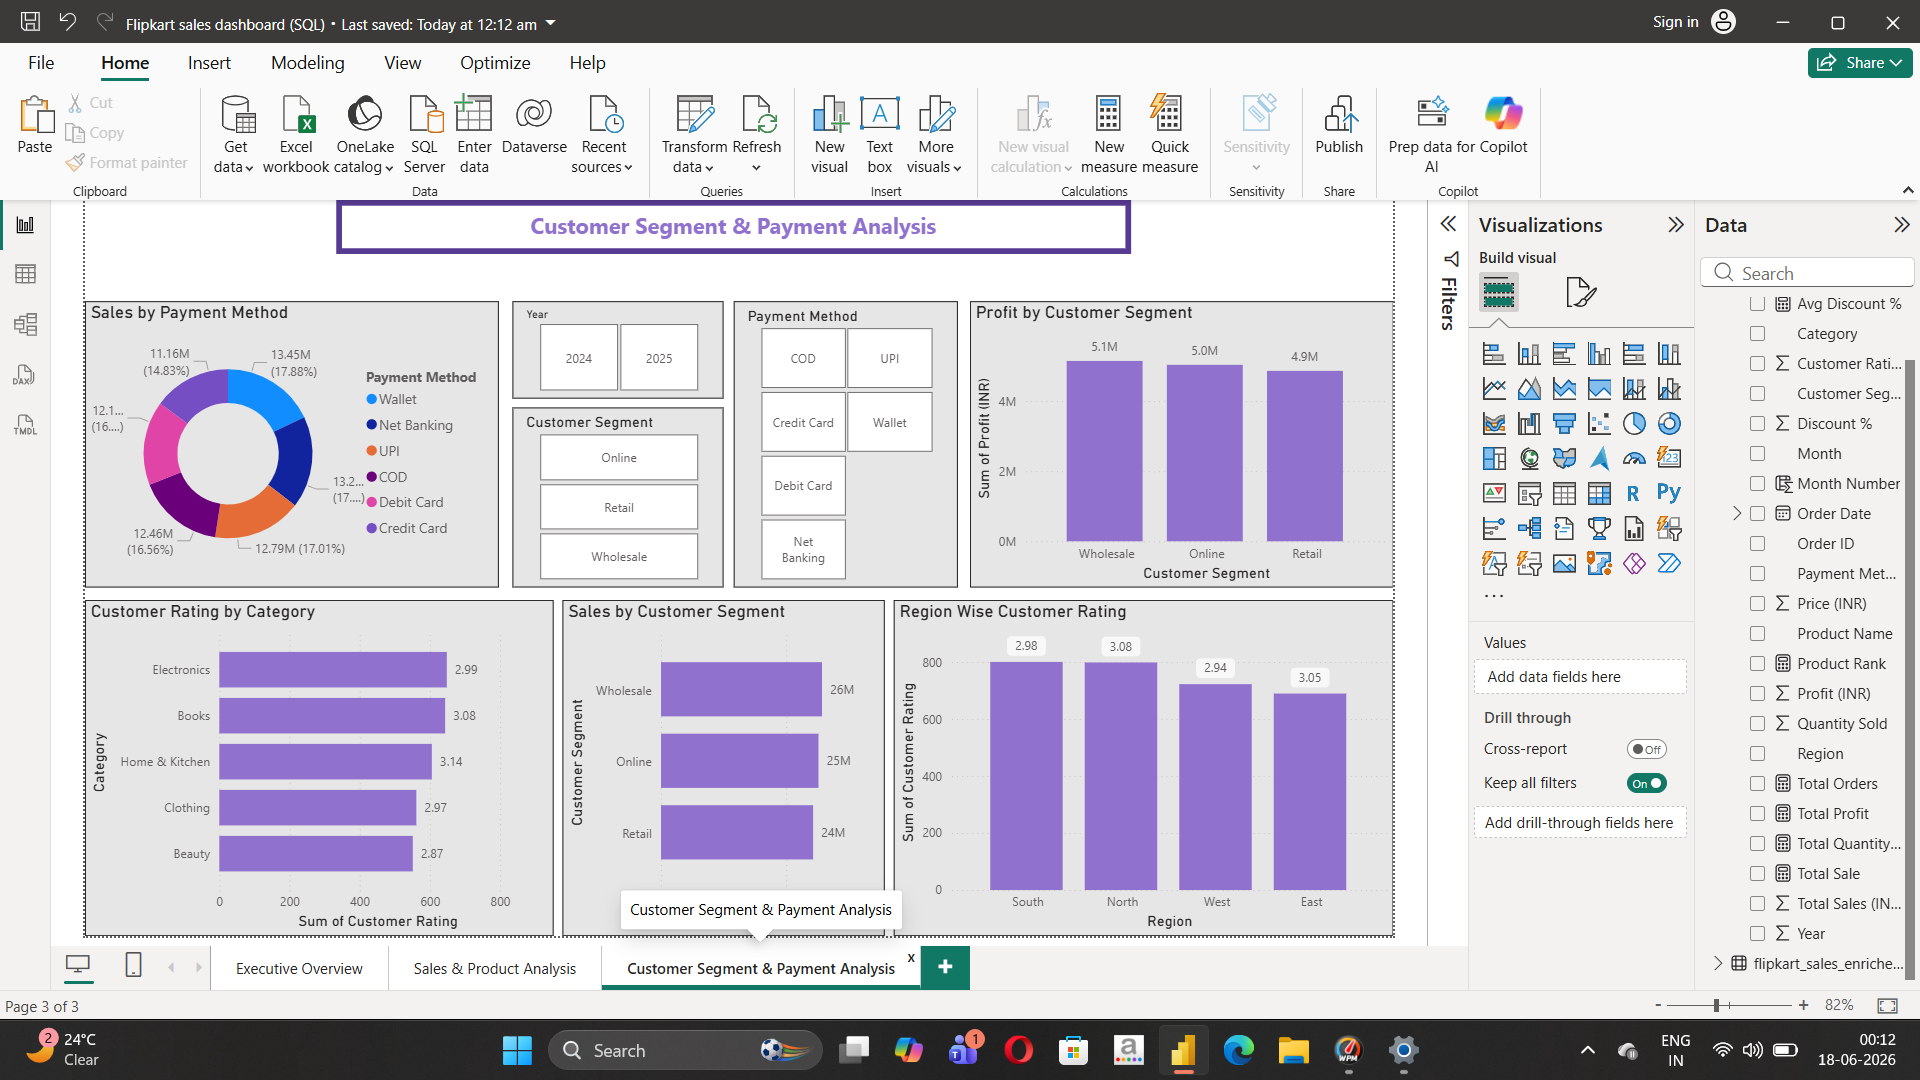

Layout of this report page (visuals, bound fields, positions):
{"tool":"powerbi","page":{"name":"Customer Segment &  Payment Analysis","canvas":[1280,720],"ordinal":2},"visuals":[{"type":"donutChart","title":"Sales by Payment Method","fields":{"Y":["Sum(flipkart_sales_enriched - Copy.Total Sales (INR))"],"Category":["flipkart_sales_enriched - Copy.Payment Method"]},"box":[0,99,404.8,280],"z":0},{"type":"barChart","title":"Sales by Customer Segment","fields":{"Y":["Sum(flipkart_sales_enriched - Copy.Total Sales (INR))"],"Category":["flipkart_sales_enriched - Copy.Customer Segment"]},"box":[467.1,391.3,315.5,328.9],"z":1000},{"type":"clusteredBarChart","title":" Customer Rating by Category","fields":{"Y":["Sum(flipkart_sales_enriched - Copy.Customer Rating)"],"Category":["flipkart_sales_enriched - Copy.Category"]},"box":[0,391.3,458.6,328.9],"z":2000},{"type":"columnChart","title":" Profit by Customer Segment","fields":{"Y":["Sum(flipkart_sales_enriched - Copy.Profit (INR))"],"Category":["flipkart_sales_enriched - Copy.Customer Segment"]},"box":[865.8,99,414.5,280],"z":3000},{"type":"lineClusteredColumnComboChart","title":"Region Wise Customer Rating ","fields":{"Category":["flipkart_sales_enriched - Copy.Region"],"Y":["Sum(flipkart_sales_enriched - Copy.Customer Rating)"]},"box":[791.2,391.3,489.1,328.9],"z":4000},{"type":"slicer","fields":{"Values":["flipkart_sales_enriched - Copy.Year"]},"box":[418.2,99,206.7,95.4],"z":4001},{"type":"slicer","fields":{"Values":["flipkart_sales_enriched - Copy.Payment Method"]},"box":[634.7,99,218.9,280],"z":4002},{"type":"slicer","fields":{"Values":["flipkart_sales_enriched - Copy.Customer Segment"]},"box":[418.2,203,206.7,176.1],"z":4003},{"type":"textbox","box":[245.8,0,777.7,52.6],"z":4004}]}

Visuals, with their boxes on the page's 1280x720 design canvas (x1, y1, x2, y2). These are canvas units, not pixel positions in the 1920x1080 screenshot, which may show the page scaled, cropped or inside an application window:
"Sales by Payment Method" donutChart: [0, 99, 405, 379]
"Sales by Customer Segment" barChart: [467, 391, 783, 720]
" Customer Rating by Category" clusteredBarChart: [0, 391, 459, 720]
" Profit by Customer Segment" columnChart: [866, 99, 1280, 379]
"Region Wise Customer Rating " lineClusteredColumnComboChart: [791, 391, 1280, 720]
slicer - flipkart_sales_enriched - Copy.Year: [418, 99, 625, 194]
slicer - flipkart_sales_enriched - Copy.Payment Method: [635, 99, 854, 379]
slicer - flipkart_sales_enriched - Copy.Customer Segment: [418, 203, 625, 379]
textbox: [246, 0, 1024, 53]
